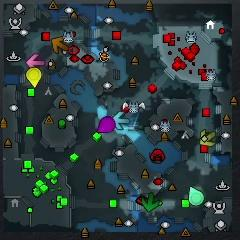p2: (188, 186, 204, 206)
p3: (97, 116, 115, 133)
p4: (26, 67, 41, 88)
x1: (26, 54, 44, 68)
x2: (200, 129, 217, 147)
x3: (112, 112, 130, 130)
x4: (142, 193, 158, 211)
x5: (52, 36, 68, 53)
